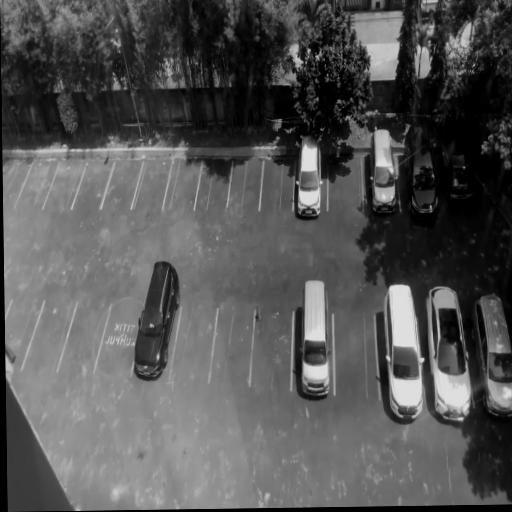Car: (421, 281, 479, 427), (379, 284, 427, 424), (129, 259, 180, 388), (466, 291, 512, 422), (401, 120, 443, 224), (298, 276, 330, 399), (434, 127, 480, 208), (366, 128, 399, 218), (294, 131, 322, 219)
Space Available: (22, 300, 78, 372), (59, 302, 111, 375), (333, 314, 379, 396), (94, 304, 141, 379), (170, 307, 218, 380), (251, 311, 294, 390), (209, 310, 254, 384), (5, 302, 41, 373), (194, 156, 233, 208), (14, 161, 58, 207), (43, 160, 86, 207), (258, 154, 294, 210), (131, 160, 172, 209), (72, 162, 114, 209), (226, 159, 264, 210), (327, 157, 363, 210), (162, 160, 202, 207), (102, 160, 142, 207), (2, 158, 33, 207)
